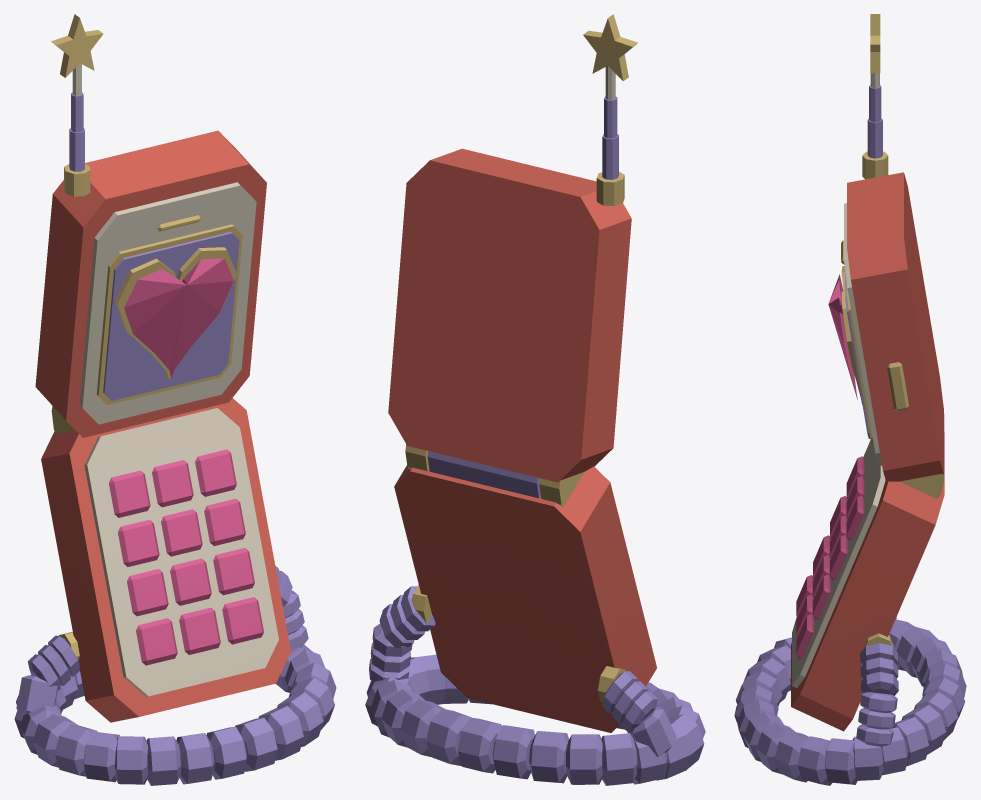
Rendered from phone-tower.glb.
3 renders of one model, left to right at view 1: azimuth 30°, elevation 25°; view 2: azimuth 150°, elevation 25°; view 3: azimuth 270°, elevation 25°, orthographic. The views are drawn at different scales.
Parts seen in each view (by area): view 1: root_mesh, lid0_mesh, swing0_mesh, tower0_mesh, spin0_mesh; view 2: lid0_mesh, root_mesh, swing0_mesh, tower0_mesh, spin0_mesh; view 3: lid0_mesh, root_mesh, swing0_mesh, tower0_mesh, spin0_mesh.
Boxes of the visible parts, <box> form: root_mesh: <box>41,398,290,722</box>; lid0_mesh: <box>35,130,266,437</box>; swing0_mesh: <box>14,566,336,785</box>; tower0_mesh: <box>64,63,90,196</box>; spin0_mesh: <box>51,14,103,77</box>; lid0_mesh: <box>388,148,631,482</box>; root_mesh: <box>394,444,656,732</box>; swing0_mesh: <box>365,586,705,785</box>; tower0_mesh: <box>596,66,624,205</box>; spin0_mesh: <box>583,14,637,81</box>; lid0_mesh: <box>828,172,943,483</box>; root_mesh: <box>791,413,944,731</box>; swing0_mesh: <box>734,617,966,785</box>; tower0_mesh: <box>862,73,888,179</box>; spin0_mesh: <box>870,14,880,73</box>.
Bounding box in the file's own units: 5.1 × 12 × 3.7.
